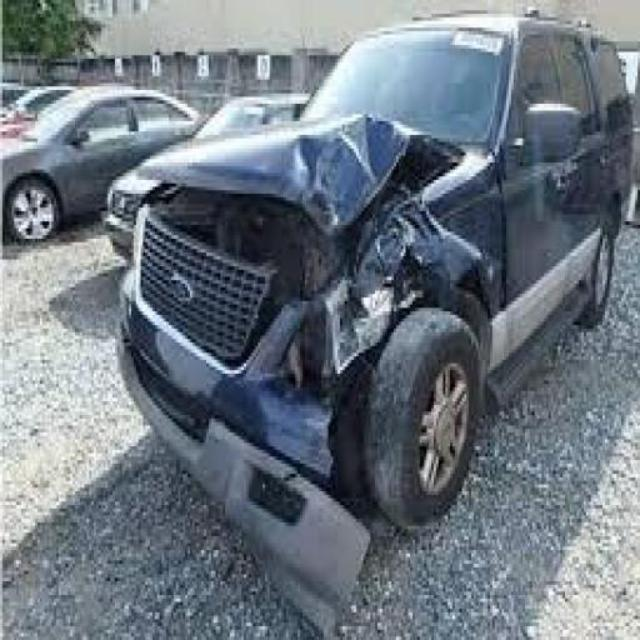crash: (136, 107, 483, 638)
